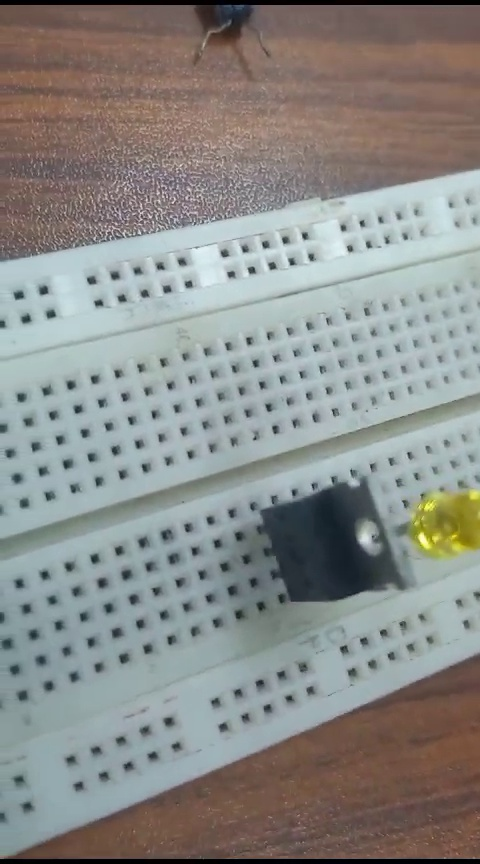LED: (424, 488, 480, 565)
voltage regulator: (240, 476, 419, 621)
